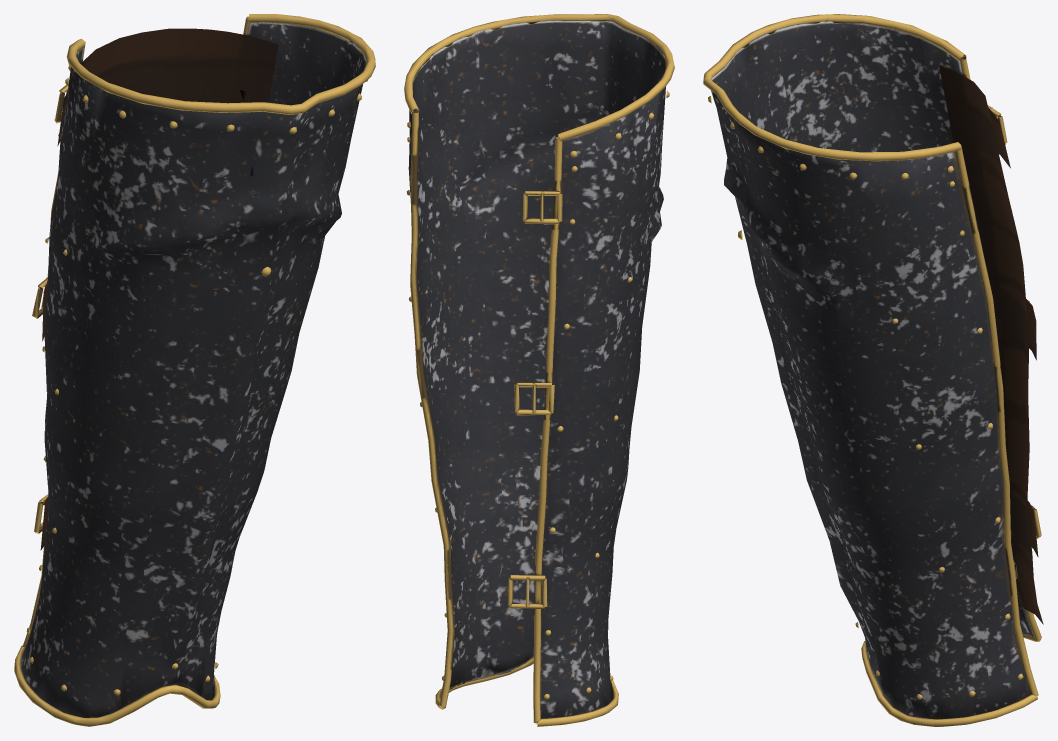
Rendered from SM_EagleGreaves_R_LOD2.fbx.
3 views of the same model, side by side, from view 1: azimuth 30°, elevation 25°; view 2: azimuth 150°, elevation 25°; view 3: azimuth 270°, elevation 25° (orthographic). The views are drawn at different scales.
Parts seen in each view (by area): view 1: SM_EagleGreaves_R_LOD2; view 2: SM_EagleGreaves_R_LOD2; view 3: SM_EagleGreaves_R_LOD2.
Boxes of the visible parts, <box> form: SM_EagleGreaves_R_LOD2: <box>14,14,375,726</box>; SM_EagleGreaves_R_LOD2: <box>404,14,674,726</box>; SM_EagleGreaves_R_LOD2: <box>703,14,1043,726</box>.
Bounding box in the file's own units: 0.1607 × 0.3964 × 0.1909.
